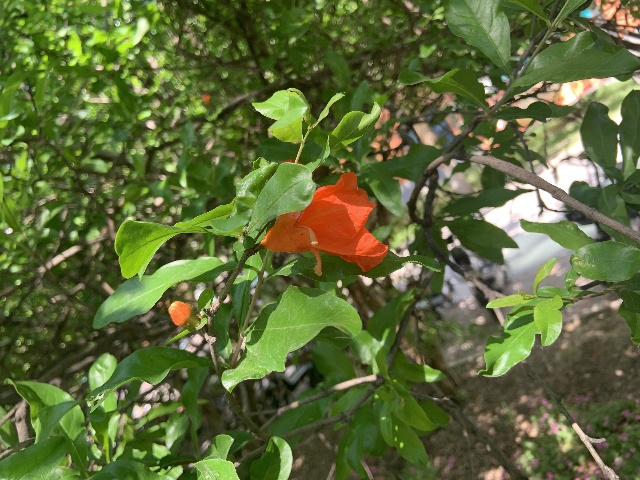bud: (168, 300, 199, 326)
flower: (260, 170, 388, 273)
